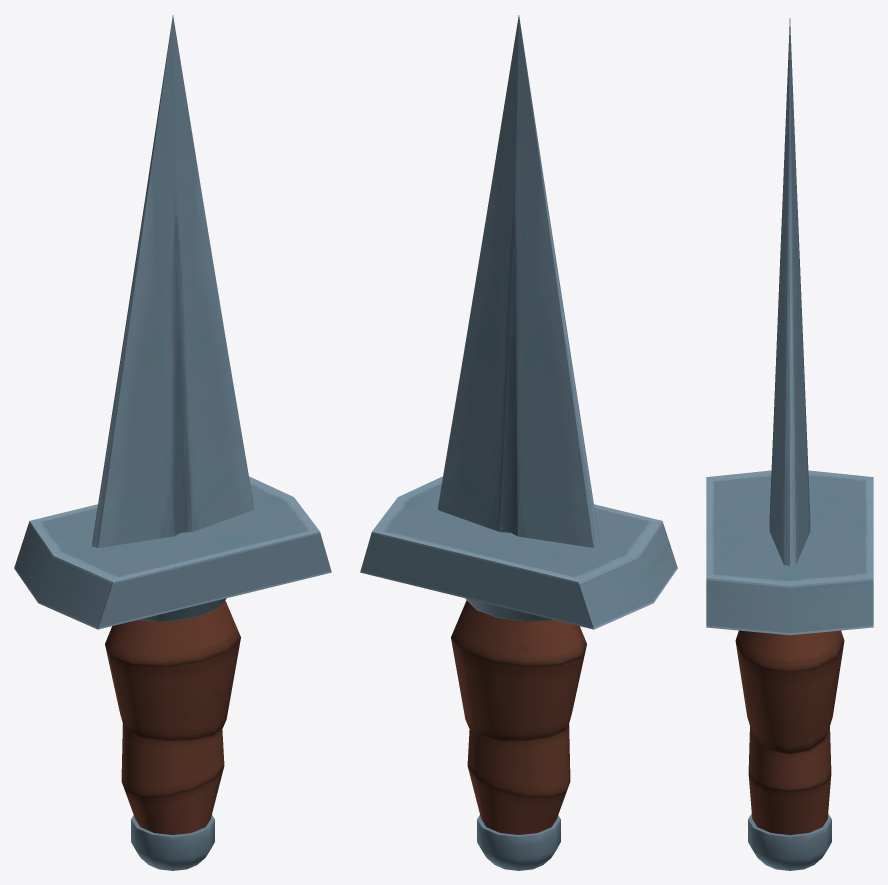
File: dagger.fbx
3 renders of one model, left to right at view 1: azimuth 30°, elevation 25°; view 2: azimuth 150°, elevation 25°; view 3: azimuth 270°, elevation 25°, orthographic.
Visible parts, largest first — view 1: dagger; view 2: dagger; view 3: dagger.
Part boxes in pixels (left/top/right/bottom): dagger: left=14, top=15, right=331, bottom=870; dagger: left=360, top=15, right=677, bottom=870; dagger: left=706, top=18, right=873, bottom=870.
Size of the model in its own units: 1.47 by 0.8 by 4.49.
